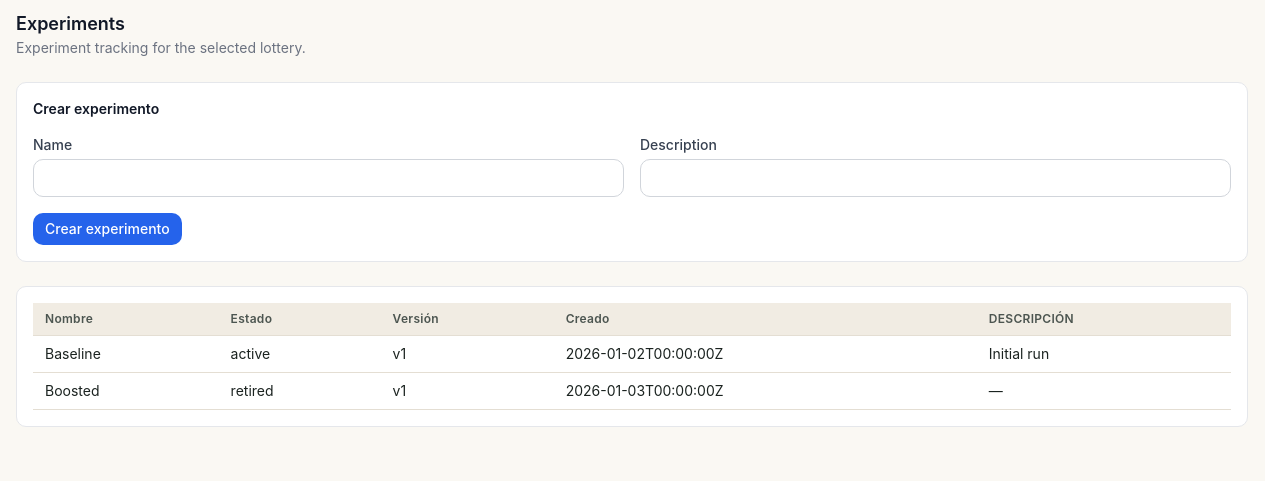
Scenario: Experiments › creates an experiment and refreshes the list
expect the table is shown: met, box x1=33 y1=303 x2=1231 y2=410
Step 1. Type "Test" into the field labelled "Name" → (328, 178), box x1=33 y1=159 x2=624 y2=197
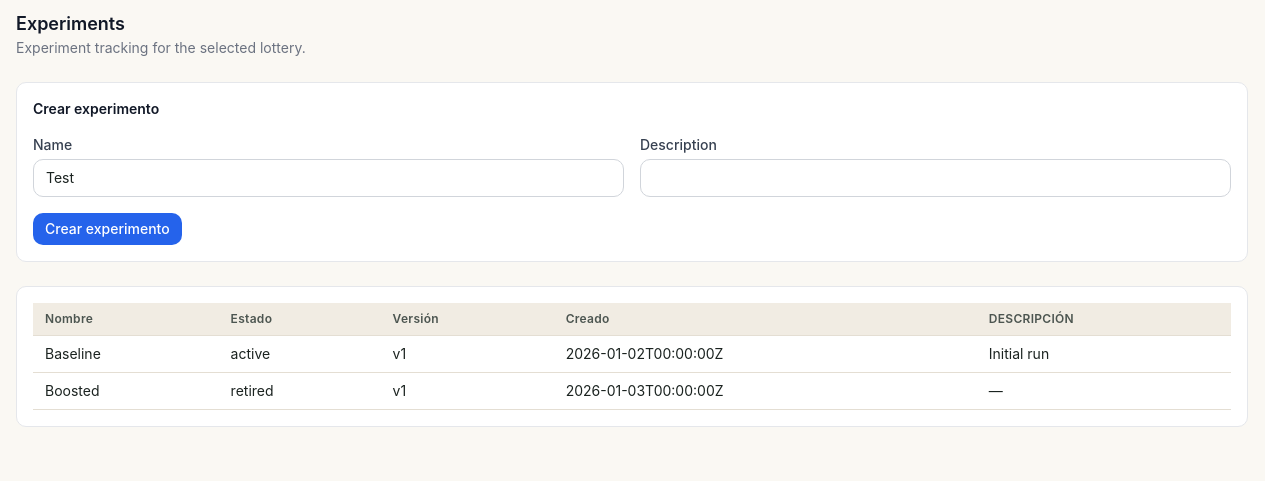
Step 2. Type "New run" into the field labelled "Description" → (936, 178), box x1=640 y1=159 x2=1231 y2=197
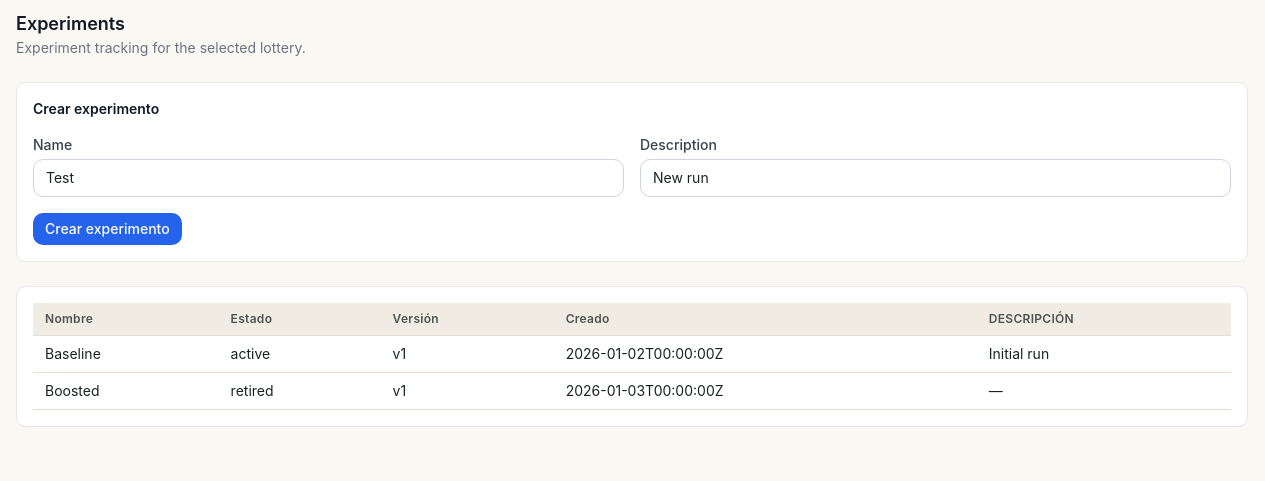
Step 3. Click the button "Crear experimento" → (107, 229), box x1=33 y1=213 x2=182 y2=245
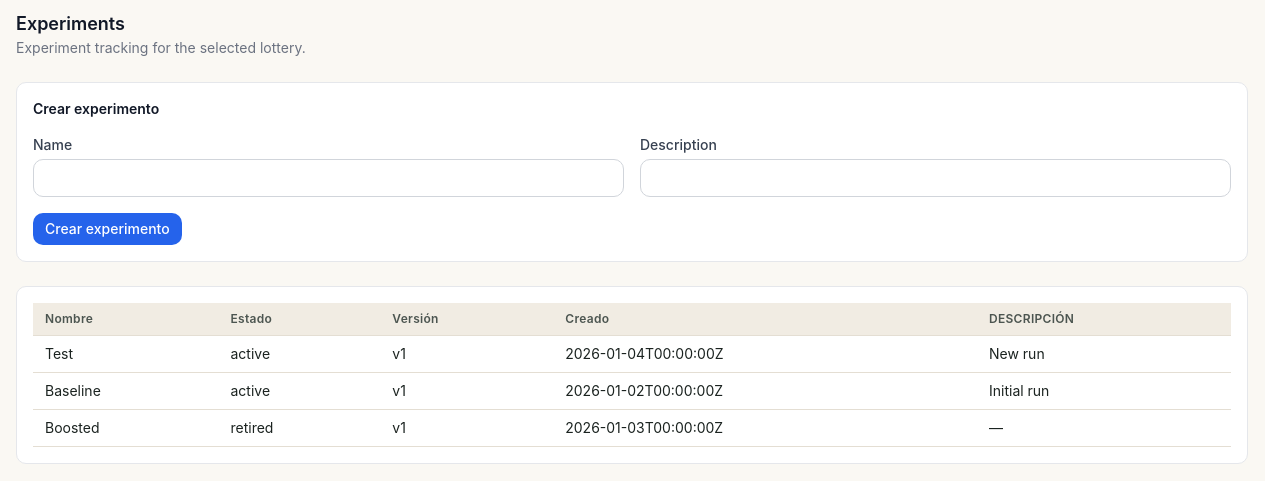
expect the table is shown: met, box x1=33 y1=303 x2=1231 y2=447
expect the text "Test" is shown: met, box x1=33 y1=336 x2=218 y2=372
